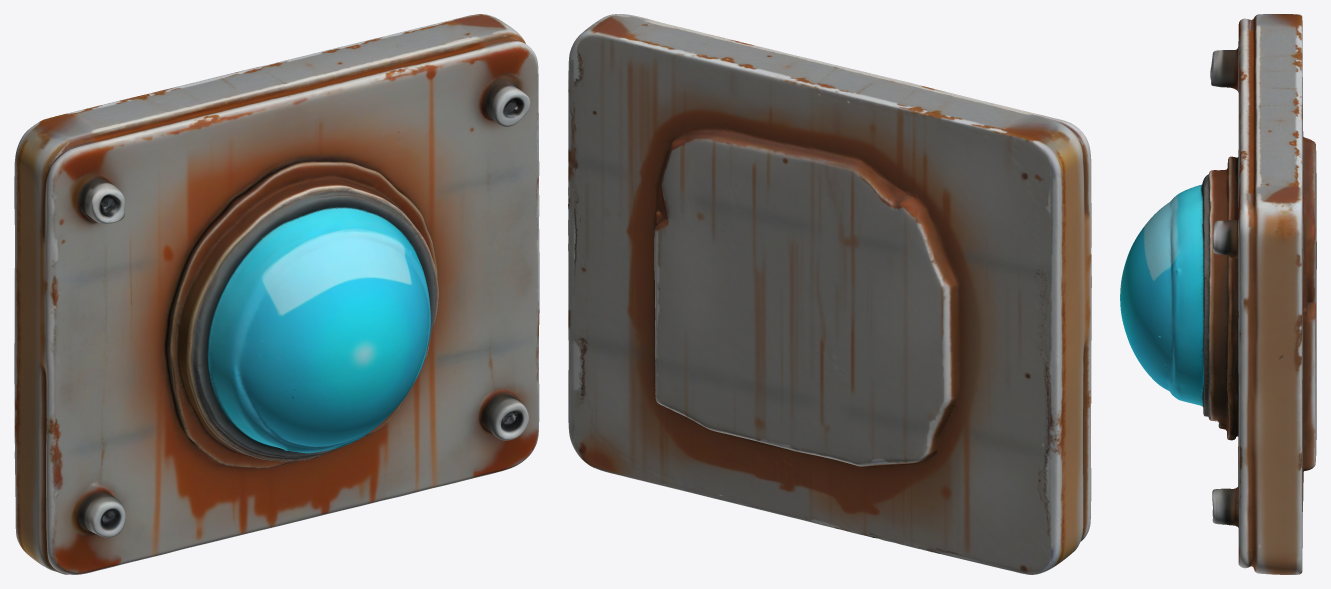
Rendered from BotonNivel.fbx.
3 views of the same model, side by side, from view 1: azimuth 30°, elevation 25°; view 2: azimuth 150°, elevation 25°; view 3: azimuth 270°, elevation 25° (orthographic). The views are drawn at different scales.
Visible parts, largest first — view 1: Mesh_0; view 2: Mesh_0; view 3: Mesh_0.
Boxes of the visible parts, x1,y1,x2,y2 form: Mesh_0: (14, 14, 539, 574); Mesh_0: (568, 14, 1091, 574); Mesh_0: (1120, 14, 1316, 574).
Bounding box in the file's own units: 200 × 171 × 80.47.
1 material, 1 textured.
